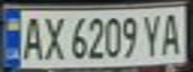0: (103, 13, 124, 60)
2: (84, 13, 106, 60)
6: (66, 14, 90, 61)
9: (121, 12, 142, 60)
A: (157, 9, 187, 56), (18, 12, 45, 61)
X: (39, 12, 66, 62)
Y: (139, 11, 166, 57)
